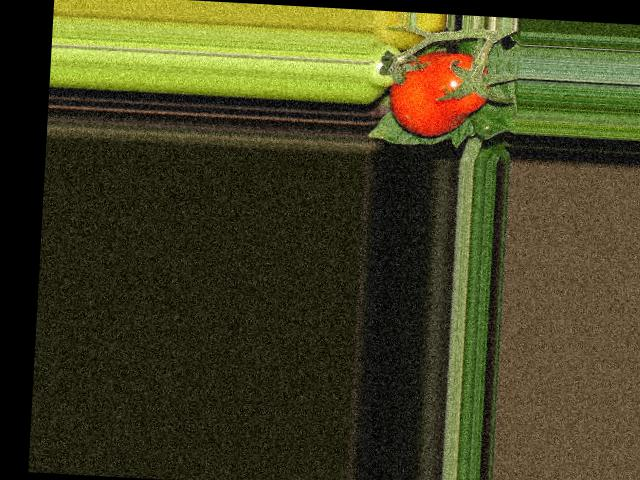tomato: (388, 49, 491, 139)
